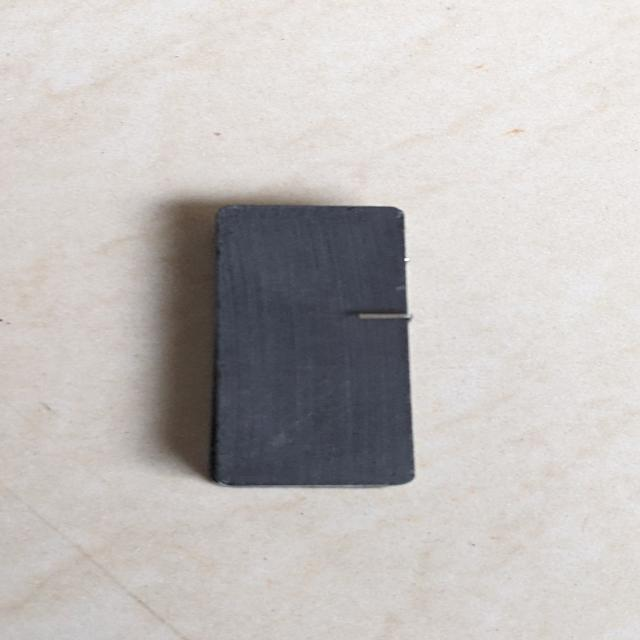Magnet: (182, 195, 428, 491)
